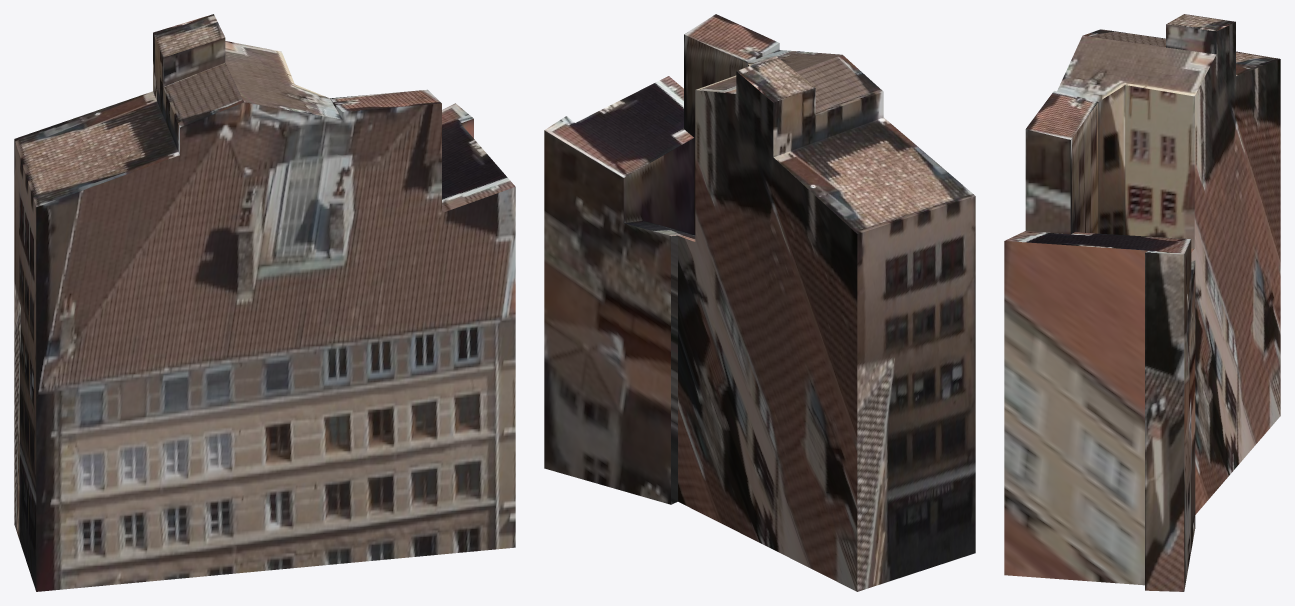
3 views of the same model, side by side, from view 1: azimuth 30°, elevation 25°; view 2: azimuth 150°, elevation 25°; view 3: azimuth 270°, elevation 25° (orthographic). The views are drawn at different scales.
Parts seen in each view (by area): view 1: Z_UP; view 2: Z_UP; view 3: Z_UP.
Boxes of the visible parts, x1,y1,x2,y2 form: Z_UP: [14, 14, 515, 591]; Z_UP: [544, 14, 975, 591]; Z_UP: [1004, 14, 1280, 591].
Size of the model in its own units: 24.37 by 26.11 by 14.24.
2 materials, 1 textured.
